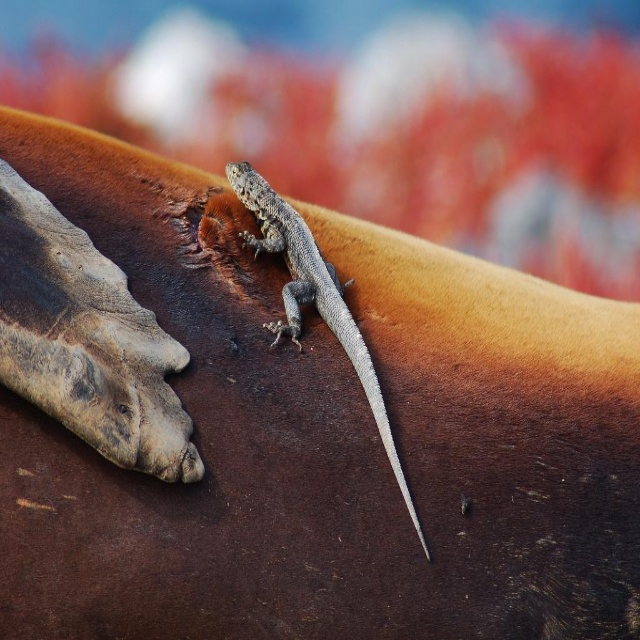Lizard: (226, 158, 429, 555)
